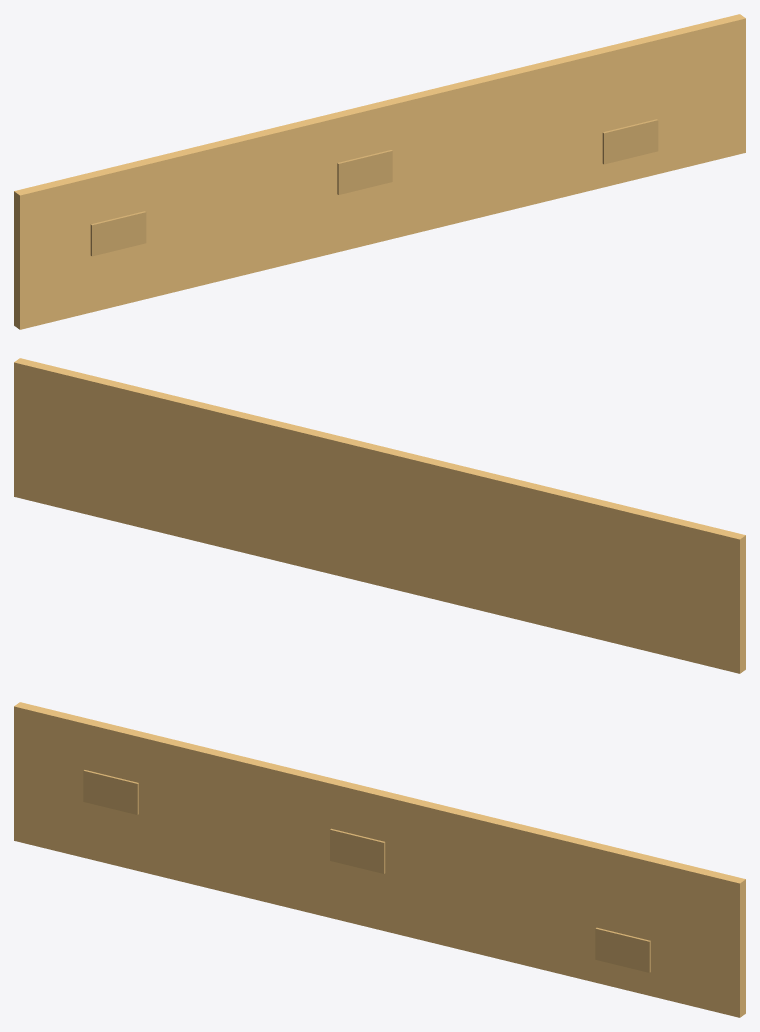
Rendered from Barn@WallBricks.fbx.
The picture shows the model from 3 angles, top to bottom: view 1: azimuth 30°, elevation 25°; view 2: azimuth 150°, elevation 25°; view 3: azimuth 330°, elevation 25°; orthographic projection.
Visible parts, largest first — view 1: WallBricks; view 2: WallBricks; view 3: WallBricks.
Boxes of the visible parts, <box> form: WallBricks: <box>14,14,745,329</box>; WallBricks: <box>14,358,745,673</box>; WallBricks: <box>14,702,745,1017</box>.
Size of the model in its own units: 537 by 94.88 by 9.37.
